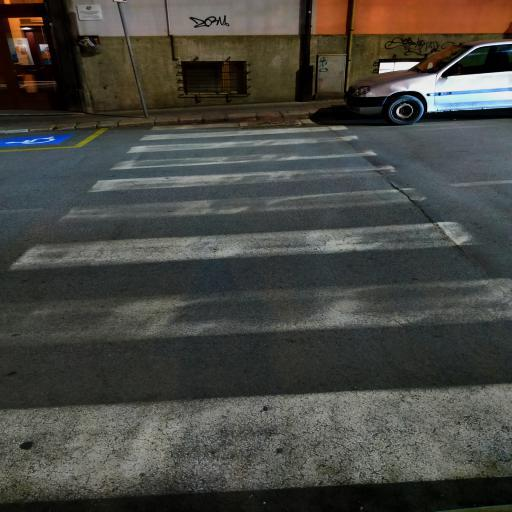crosswalk: (0, 272, 512, 497), (60, 162, 444, 225)
